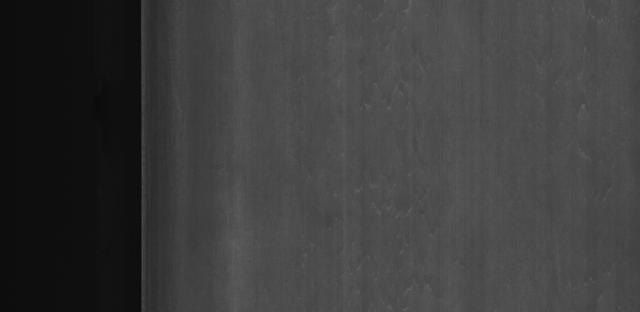silk_spot: (340, 126, 442, 264)
